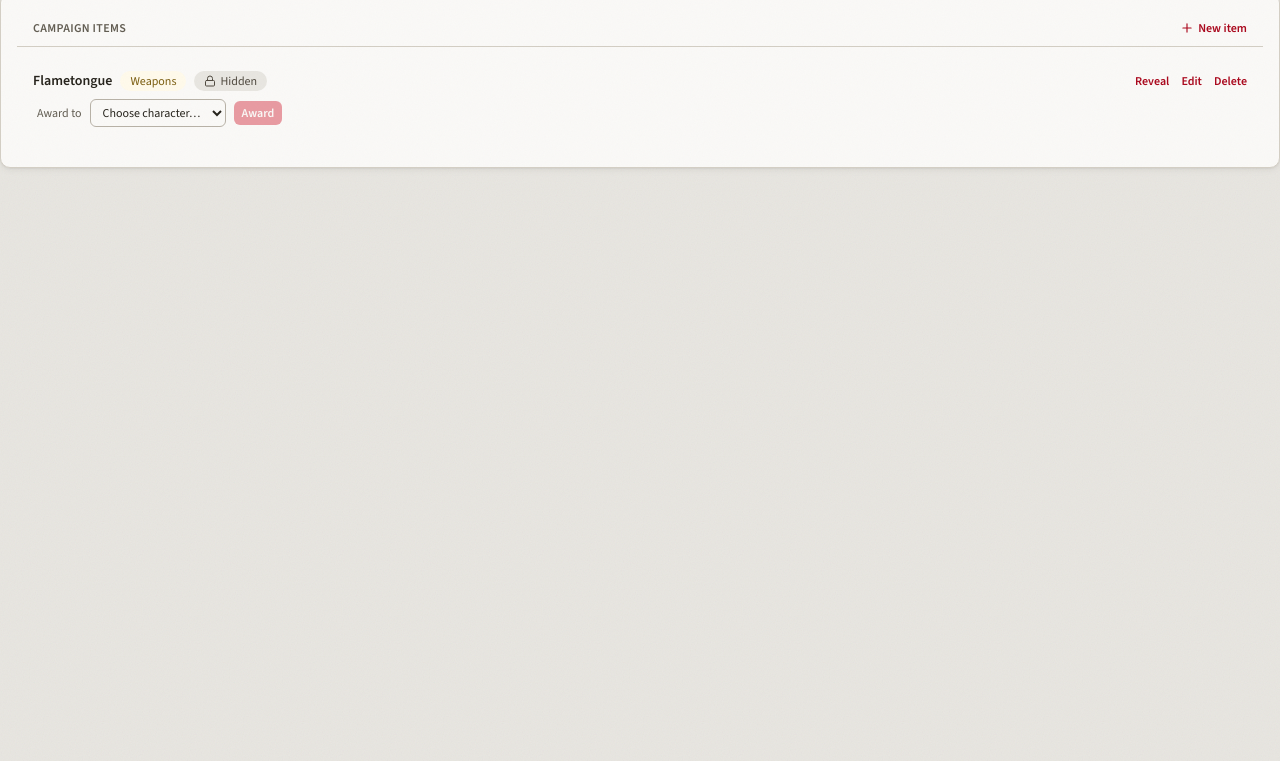
Test: CampaignItemsPanel edit (#505) › opens the shared form pre-filled and saves via updateCampaignItem
The width and height of the screenshot is (1280, 761).
Expected: the link "Flametongue" is shown, x1=33 y1=71 x2=112 y2=91
Click the button "Edit" at (1192, 81), box x1=1181 y1=73 x2=1202 y2=89
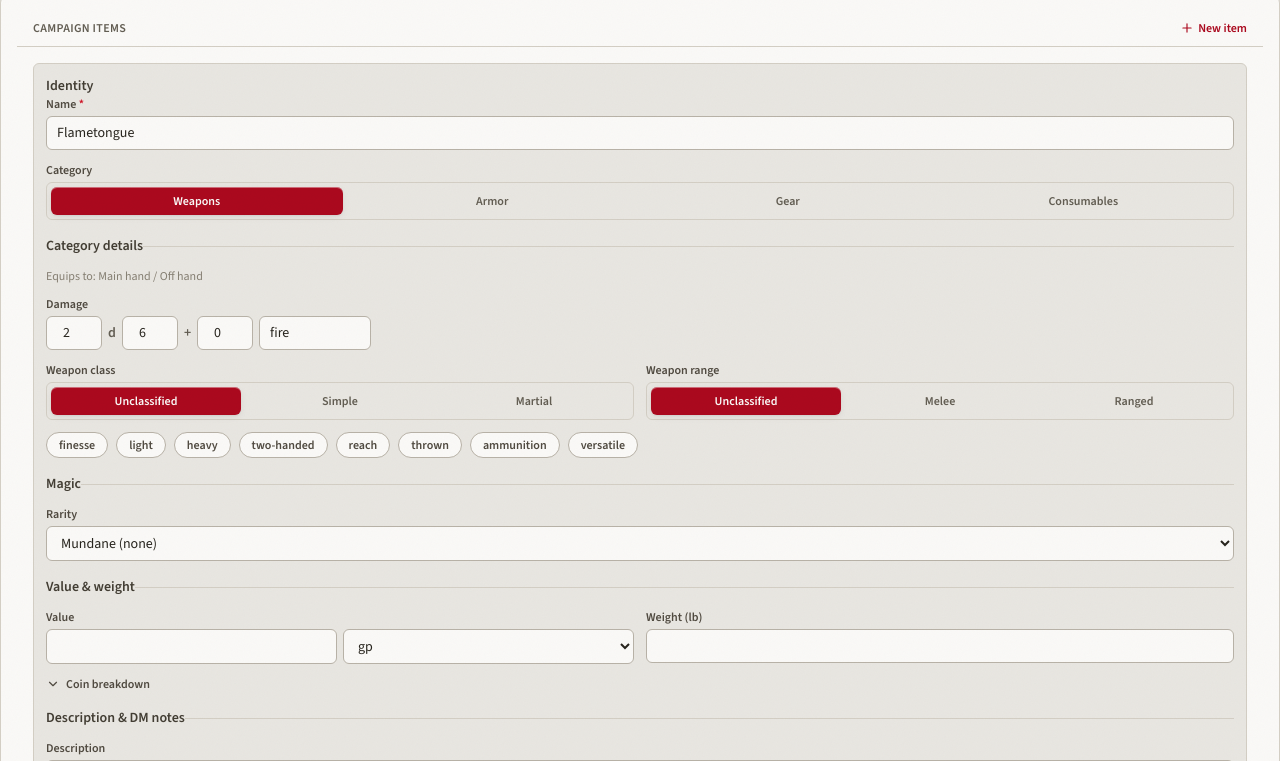
Now the field labelled "Name *" holds "Flametongue"
Now the field named "Damage type" holds "fire", box x1=259 y1=316 x2=371 y2=350
Replace the text in the field labelled "Name *" with "Flametongue +2" at (640, 133), box x1=46 y1=116 x2=1234 y2=150
(page scrolled)
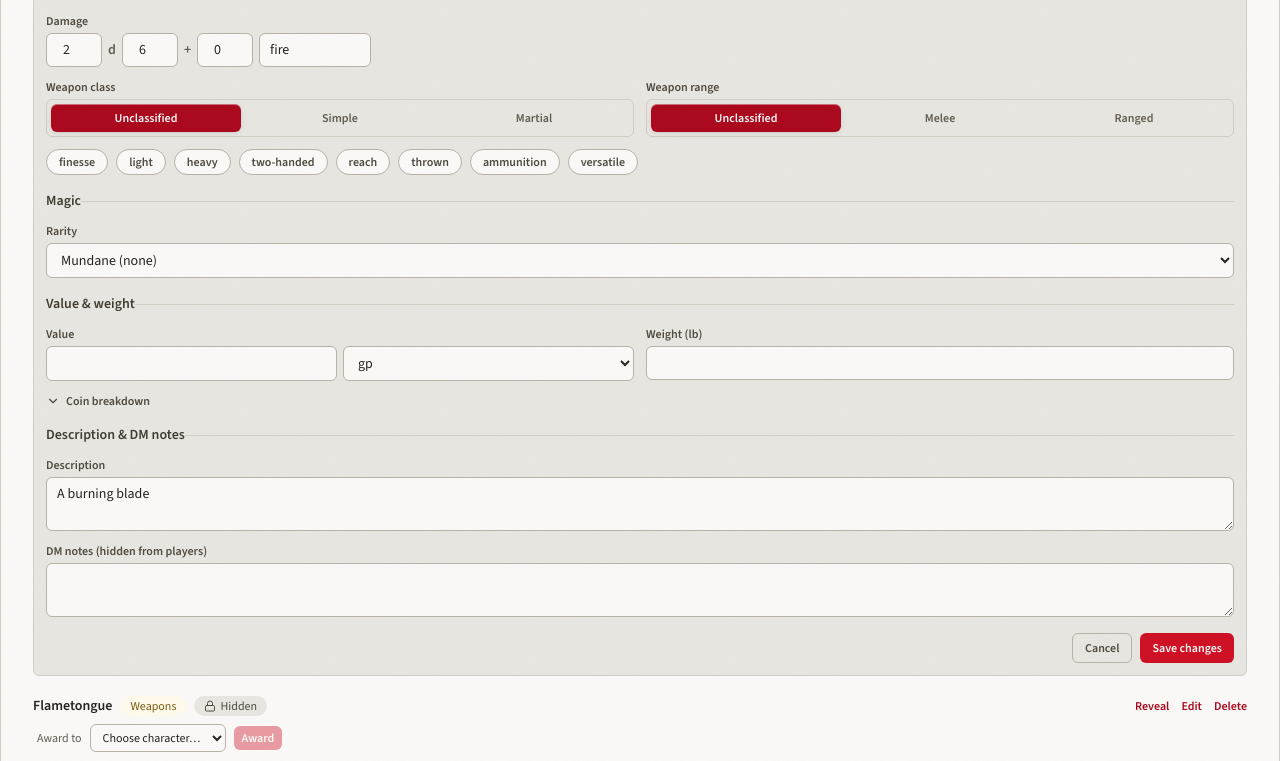
Click the button "Save changes" at (1187, 648), box x1=1140 y1=633 x2=1234 y2=663
(page scrolled)
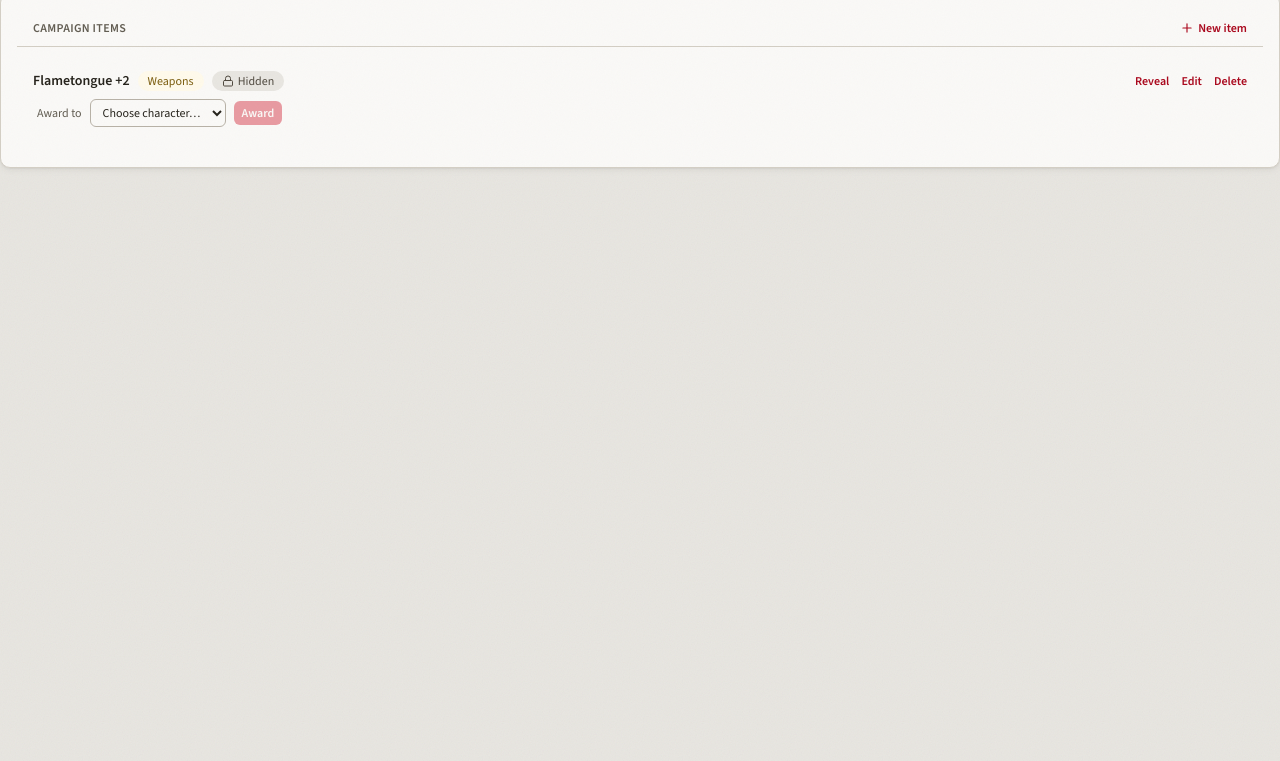
Now the link "Flametongue +2" is shown, box x1=33 y1=71 x2=130 y2=91
Now the button "Save changes" is gone
